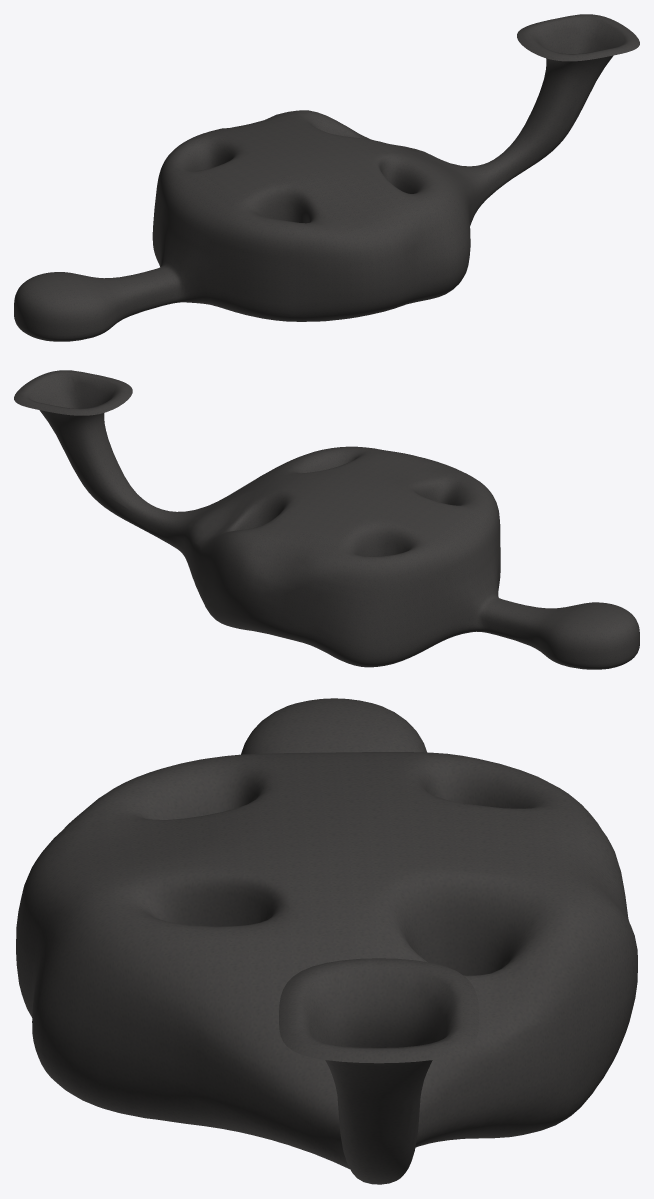
File: Slug_Cave.fbx
3 renders of one model, top to bottom at view 1: azimuth 30°, elevation 25°; view 2: azimuth 150°, elevation 25°; view 3: azimuth 270°, elevation 25°, orthographic. The views are drawn at different scales.
Parts seen in each view (by area): view 1: Slug_Cave; view 2: Slug_Cave; view 3: Slug_Cave.
Part boxes in pixels (<box>): Slug_Cave: <box>14,14,639,341</box>; Slug_Cave: <box>14,370,639,669</box>; Slug_Cave: <box>16,698,637,1184</box>.
Bounding box in the file's own units: 12853 × 3261 × 5802.
